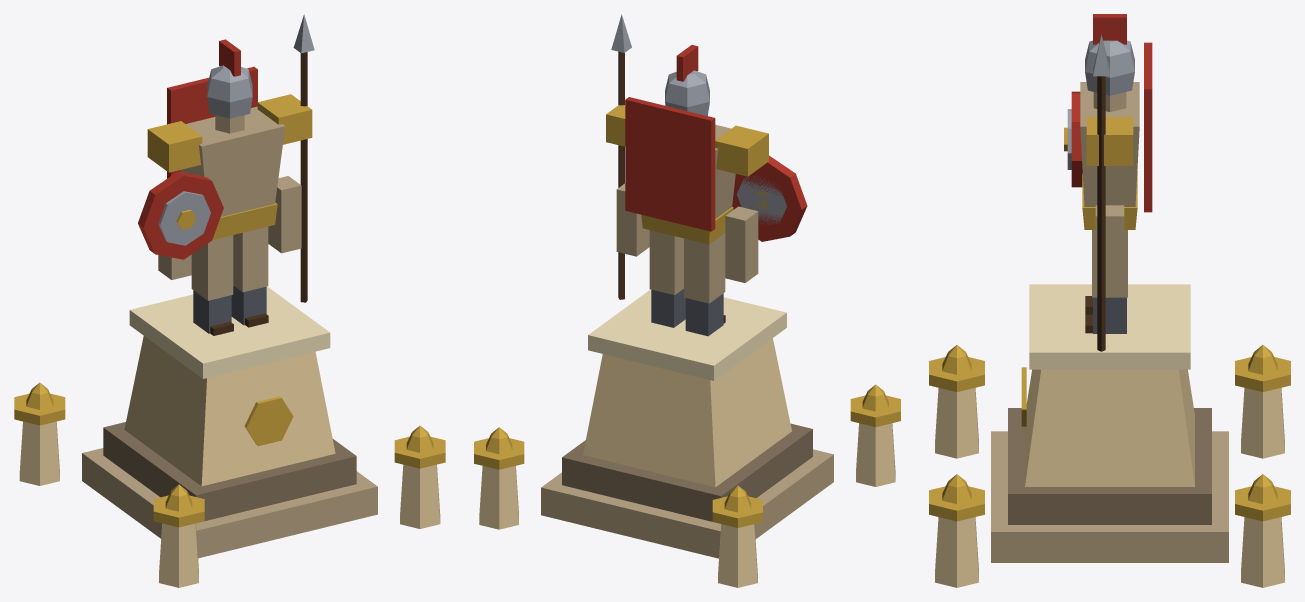
The model's file is statue_warrior.fbx.
The picture shows the model from 3 angles, left to right: view 1: azimuth 30°, elevation 25°; view 2: azimuth 150°, elevation 25°; view 3: azimuth 270°, elevation 25°; orthographic projection. The views are drawn at different scales.
Parts seen in each view (by area): view 1: statue_warrior; view 2: statue_warrior; view 3: statue_warrior.
Part boxes in pixels (x1,y1,x2,y2): statue_warrior: (14,14,445,587); statue_warrior: (474,14,900,587); statue_warrior: (929,14,1290,587).
Bounding box in the file's own units: 4.36 × 6.7 × 4.26.
Materials: 1 (1 with a texture image).
